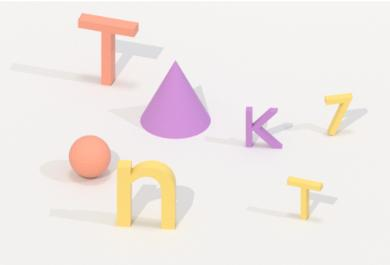0-TamGiac: (136, 57, 215, 144)
0-Tron: (68, 132, 113, 180)
7: (320, 92, 359, 138)
K: (242, 102, 285, 154)
T: (73, 9, 141, 90), (286, 173, 326, 225)
n: (113, 158, 182, 234)
